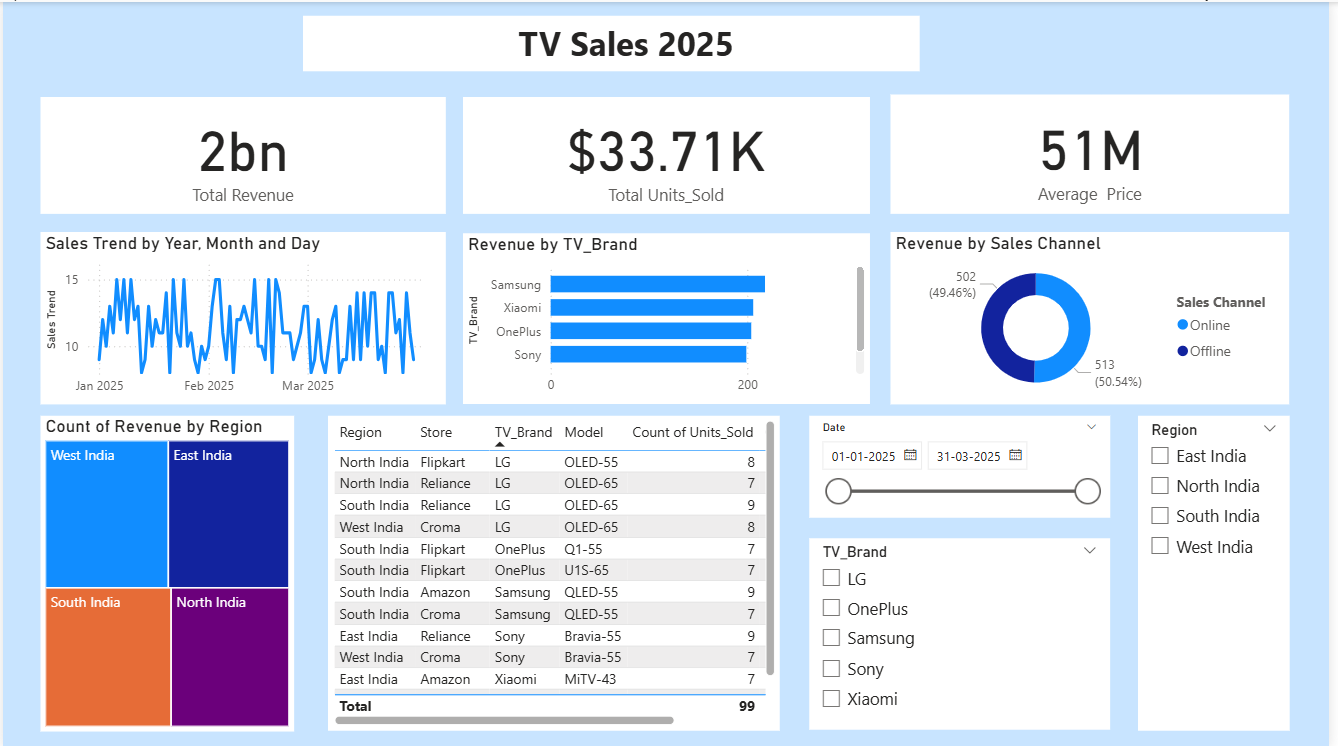

This screenshot's page, from the dashboard's own definition file:
{"tool":"powerbi","page":{"name":"Page 1","canvas":[1280,720],"ordinal":0},"visuals":[{"type":"card","fields":{"Values":["Sum(tv_sales2.Units_Sold)"]},"box":[443.8,91.2,392.5,112.5],"z":0},{"type":"card","fields":{"Values":["Sum(tv_sales2.Revenue)"]},"box":[36.2,91.2,391.2,112.5],"z":1000},{"type":"card","fields":{"Values":["Sum(tv_sales2.Price_per_Unit)"]},"box":[856.2,88.8,385,115],"z":2000},{"type":"lineChart","fields":{"Y":["Count(tv_sales2.Revenue)"],"Category":["tv_sales2.Date.Variation.Date Hierarchy.Year","tv_sales2.Date.Variation.Date Hierarchy.Month","tv_sales2.Date.Variation.Date Hierarchy.Day"]},"box":[36.2,222.5,391.2,166.2],"z":3000},{"type":"clusteredBarChart","fields":{"Y":["CountNonNull(tv_sales2.Revenue)"],"Category":["tv_sales2.TV_Brand"]},"box":[443.8,223.8,392.5,165],"z":4000},{"type":"donutChart","fields":{"Category":["tv_sales2.Sales_Channel"],"Y":["Count(tv_sales2.Revenue)"]},"box":[856.2,222.5,385,166.2],"z":5000},{"type":"tableEx","fields":{"Values":["tv_sales2.Region","tv_sales2.Store","tv_sales2.TV_Brand","tv_sales2.Model","CountNonNull(tv_sales2.Units_Sold)","CountNonNull(tv_sales2.Revenue)"]},"box":[313.8,398.8,436.2,303.8],"z":6000},{"type":"slicer","fields":{"Values":["tv_sales2.Date"]},"box":[778.8,398.8,290,98.8],"z":7000},{"type":"slicer","fields":{"Values":["tv_sales2.TV_Brand"]},"box":[778.8,517.5,290,185],"z":8000},{"type":"slicer","fields":{"Values":["tv_sales2.Region"]},"box":[1095,398.8,146.2,303.8],"z":9000},{"type":"treemap","fields":{"Group":["tv_sales2.Region"],"Values":["Count(tv_sales2.Revenue)"]},"box":[36.2,398.8,245,305],"z":10000},{"type":"textbox","box":[290,13.8,595,53.8],"z":11000}]}

Visuals, with their boxes in screenshot pixels (x1, y1, x2, y2), scaled from the page's 1280x720 canvas onto the 1338x746 screenshot:
card - Sum(tv_sales2.Units_Sold): detection(464, 94, 874, 211)
card - Sum(tv_sales2.Revenue): detection(38, 94, 447, 211)
card - Sum(tv_sales2.Price_per_Unit): detection(895, 92, 1297, 211)
lineChart - Count(tv_sales2.Revenue) x tv_sales2.Date.Variation.Date Hierarchy.Year: detection(38, 231, 447, 403)
clusteredBarChart - CountNonNull(tv_sales2.Revenue) x tv_sales2.TV_Brand: detection(464, 232, 874, 403)
donutChart - tv_sales2.Sales_Channel x Count(tv_sales2.Revenue): detection(895, 231, 1297, 403)
tableEx - tv_sales2.Region x tv_sales2.Store: detection(328, 413, 784, 728)
slicer - tv_sales2.Date: detection(814, 413, 1117, 516)
slicer - tv_sales2.TV_Brand: detection(814, 536, 1117, 728)
slicer - tv_sales2.Region: detection(1145, 413, 1297, 728)
treemap - tv_sales2.Region x Count(tv_sales2.Revenue): detection(38, 413, 294, 729)
textbox: detection(303, 14, 925, 70)
